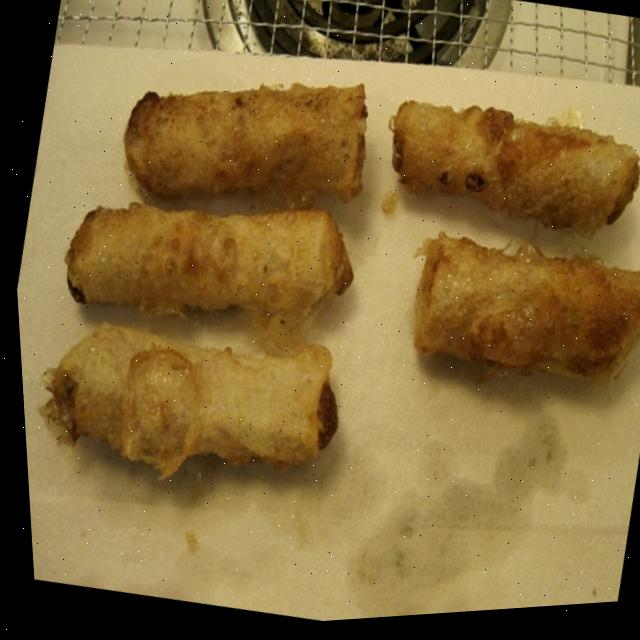炸货点心: (0, 0, 640, 623)
